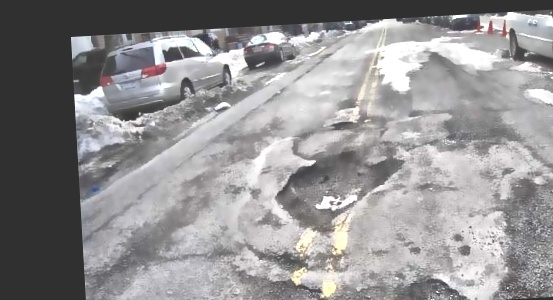pothole: (331, 117, 353, 131)
